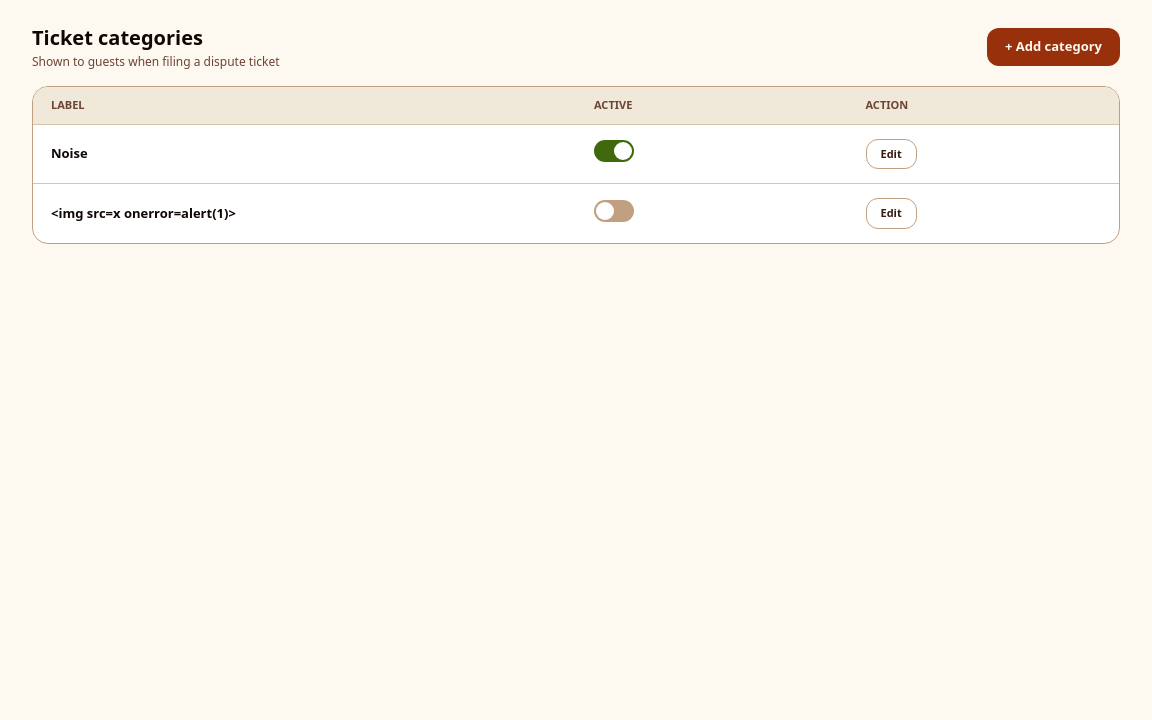
CategoriesTable (F12, F15) › confirms before deleting and shows the 409 message
The image size is (1152, 720).
What coordinates should you click on to do the following:
click the button "Edit" in the row of "Noise"
I would click on:
 (891, 154)
Its box is [866,138,917,169].
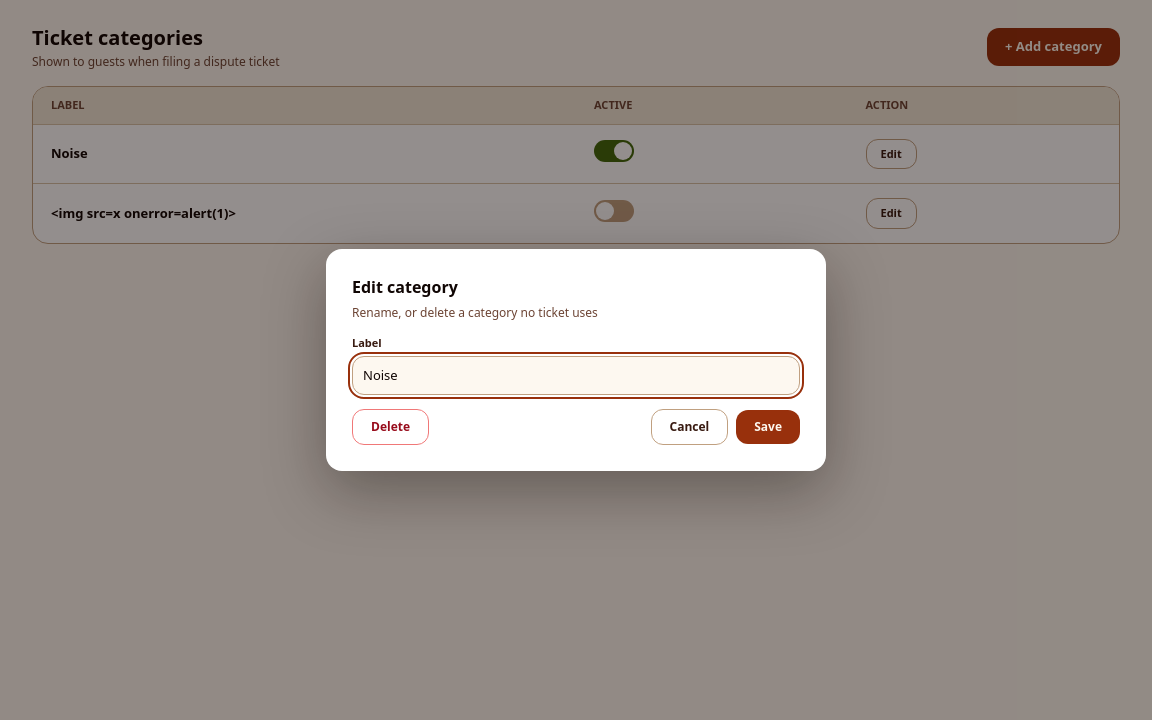
What coordinates should you click on to do the following:
click the button "Delete"
I would click on:
 (390, 427)
Its box is [352,409,429,445].
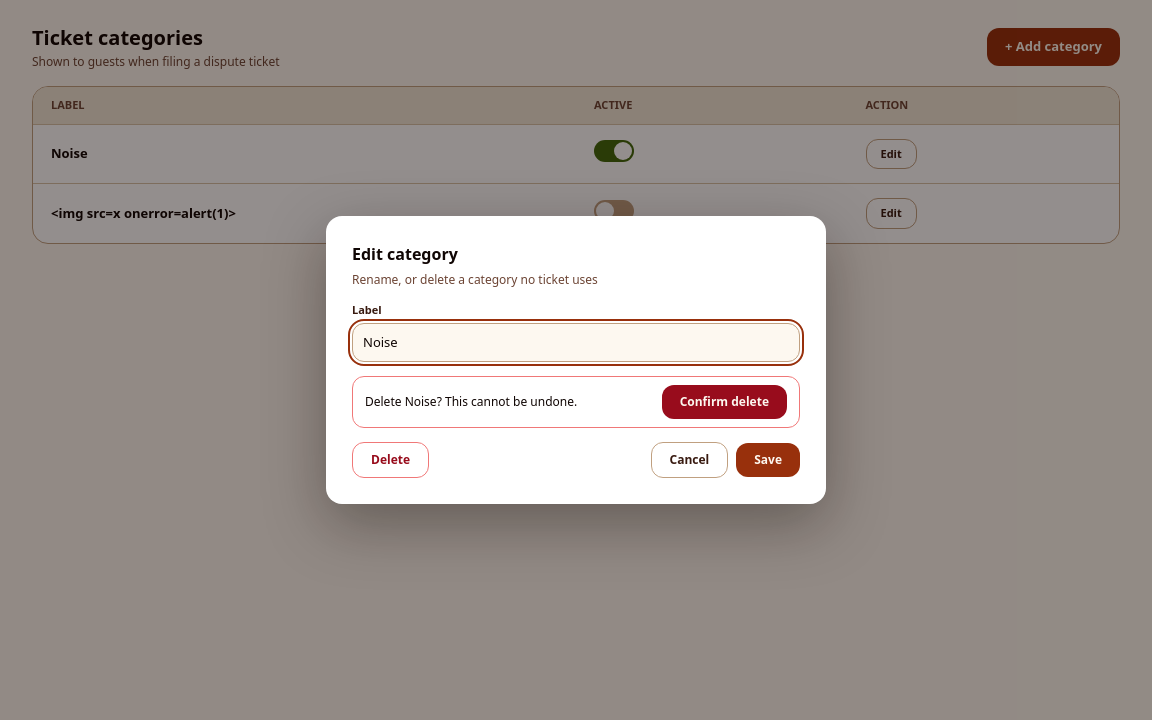
Expected: the text "Delete Noise? This cannot be undone." is shown, [365,393,577,410]
What coordinates should you click on to do the following:
click the button "Confirm delete"
I would click on:
 (724, 402)
Its box is [662,385,787,419].
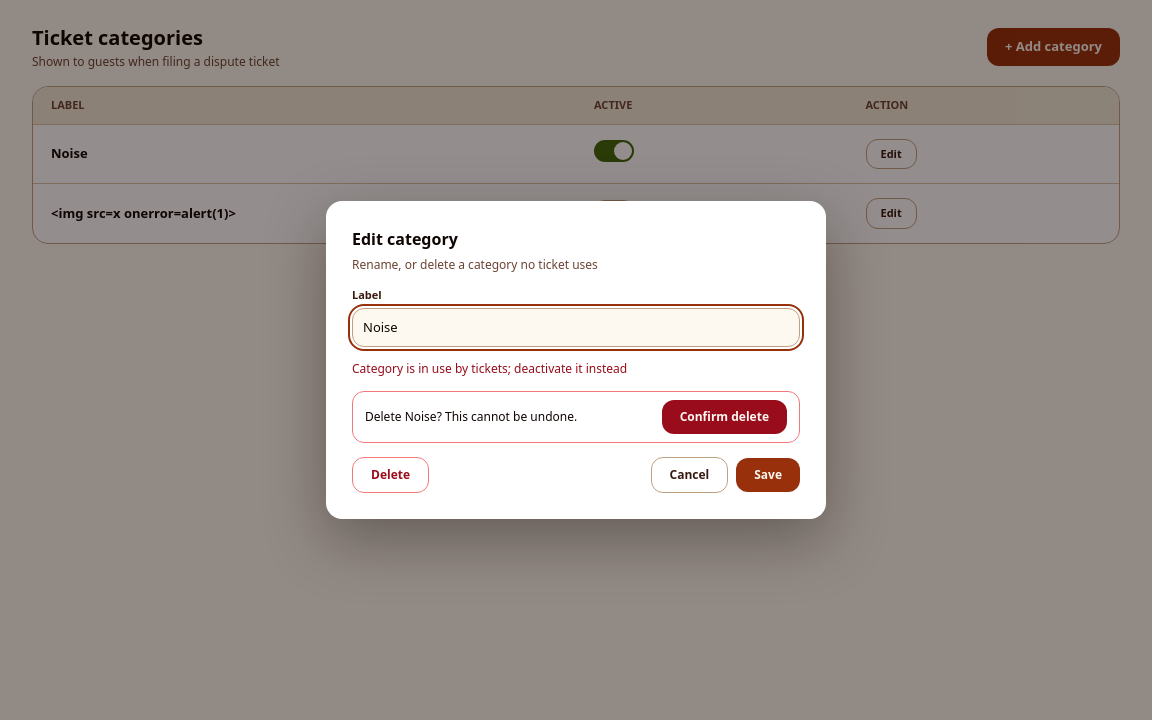
Expected: the message reads "Category is in use by tickets; deactivate it instead", [352,360,627,377]
